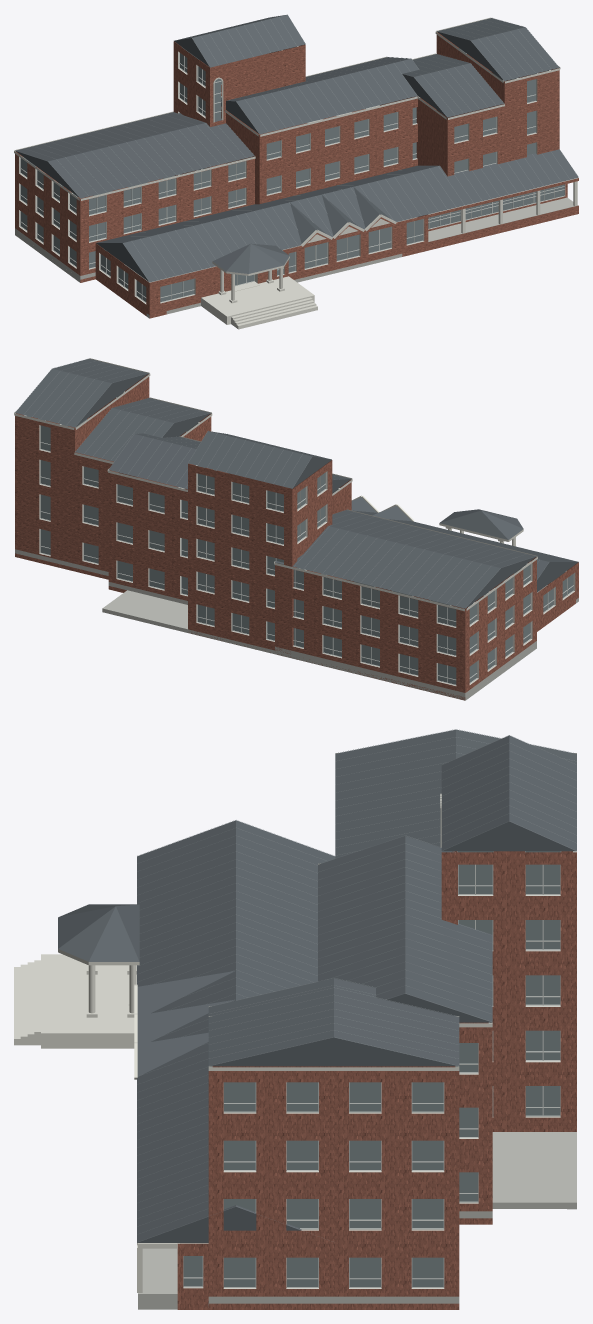
The picture shows the model from 3 angles, top to bottom: view 1: azimuth 30°, elevation 25°; view 2: azimuth 150°, elevation 25°; view 3: azimuth 270°, elevation 25°; orthographic projection. The views are drawn at different scales.
Visible parts, largest first — view 1: hyeonunjae__classroomFacades (×2), hyeonunjae__longLowFrontRoof, hyeonunjae__leftWingRoof, hyeonunjae__middleRoof, hyeonunjae__frontSingleStoreyFacade, hyeonunjae__windowAndDoorFrames, hyeonunjae__rightWingRoof, hyeonunjae__tallTowerArchedFacade, hyeonunjae__rightLowRoof, hyeonunjae__tallTowerRoof, hyeonunjae__frontSingleStoreyFacade__window, hyeonunjae__recessedOpeningReveals (+22 smaller); view 2: hyeonunjae__classroomFacades (×3), hyeonunjae__tallRearTower, hyeonunjae__leftWingRoof, hyeonunjae__tallRearTower__window, hyeonunjae__rightWingRoof, hyeonunjae__windowAndDoorFrames, hyeonunjae__tallTowerRoof, hyeonunjae__rightLowRoof, hyeonunjae__originalFootprintFoundation, hyeonunjae__middleRoof, hyeonunjae__recessedOpeningReveals, hyeonunjae__higherRightLowerPart_0 (+10 smaller); view 3: hyeonunjae__classroomFacades (×3), hyeonunjae__longLowFrontRoof, hyeonunjae__middleRoof, hyeonunjae__tallRearTower, hyeonunjae__rightWingRoof, hyeonunjae__leftWingRoof, hyeonunjae__tallTowerRoof, hyeonunjae__porchLevelApproach, hyeonunjae__tallRearTower__window, hyeonunjae__originalFootprintFoundation, hyeonunjae__windowAndDoorFrames, hyeonunjae__threeGableRoofs (+14 smaller).
Part boxes in pixels (left/top/right/bottom): hyeonunjae__classroomFacades (×2): left=15, top=32, right=559, bottom=316; hyeonunjae__longLowFrontRoof: left=97, top=149, right=578, bottom=282; hyeonunjae__leftWingRoof: left=16, top=112, right=254, bottom=198; hyeonunjae__middleRoof: left=221, top=57, right=418, bottom=134; hyeonunjae__frontSingleStoreyFacade: left=149, top=178, right=578, bottom=318; hyeonunjae__windowAndDoorFrames: left=20, top=46, right=565, bottom=302; hyeonunjae__rightWingRoof: left=437, top=18, right=559, bottom=80; hyeonunjae__tallTowerArchedFacade: left=210, top=45, right=305, bottom=167; hyeonunjae__rightLowRoof: left=403, top=54, right=503, bottom=117; hyeonunjae__tallTowerRoof: left=175, top=14, right=305, bottom=67; hyeonunjae__frontSingleStoreyFacade__window: left=160, top=219, right=422, bottom=301; hyeonunjae__recessedOpeningReveals: left=19, top=46, right=562, bottom=304; hyeonunjae__classroomFacades (×3): left=15, top=374, right=578, bottom=700; hyeonunjae__tallRearTower: left=188, top=460, right=332, bottom=656; hyeonunjae__leftWingRoof: left=275, top=510, right=536, bottom=608; hyeonunjae__tallRearTower__window: left=198, top=466, right=325, bottom=640; hyeonunjae__rightWingRoof: left=15, top=358, right=148, bottom=427; hyeonunjae__windowAndDoorFrames: left=25, top=392, right=573, bottom=685; hyeonunjae__tallTowerRoof: left=188, top=431, right=330, bottom=488; hyeonunjae__rightLowRoof: left=75, top=398, right=210, bottom=461; hyeonunjae__originalFootprintFoundation: left=102, top=590, right=578, bottom=700; hyeonunjae__middleRoof: left=109, top=433, right=351, bottom=489; hyeonunjae__recessedOpeningReveals: left=24, top=391, right=575, bottom=685; hyeonunjae__higherRightLowerPart_0: left=75, top=455, right=137, bottom=579; hyeonunjae__classroomFacades (×3): left=177, top=1027, right=492, bottom=1309; hyeonunjae__longLowFrontRoof: left=137, top=820, right=335, bottom=1242; hyeonunjae__middleRoof: left=318, top=836, right=492, bottom=1022; hyeonunjae__tallRearTower: left=441, top=851, right=576, bottom=1131; hyeonunjae__rightWingRoof: left=208, top=988, right=459, bottom=1066; hyeonunjae__leftWingRoof: left=335, top=729, right=576, bottom=858; hyeonunjae__tallTowerRoof: left=441, top=735, right=576, bottom=851; hyeonunjae__porchLevelApproach: left=41, top=954, right=136, bottom=1048; hyeonunjae__tallRearTower__window: left=458, top=851, right=560, bottom=1115; hyeonunjae__originalFootprintFoundation: left=208, top=1132, right=576, bottom=1305; hyeonunjae__windowAndDoorFrames: left=178, top=851, right=574, bottom=1287; hyeonunjae__threeGableRoofs: left=137, top=971, right=234, bottom=1076.
Size of the model in its own units: 56.03 by 20.63 by 33.28.
Materials: 7 (1 with a texture image).
